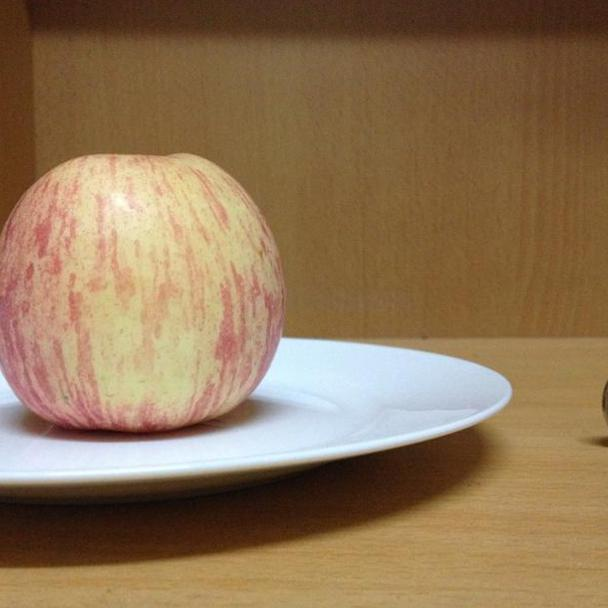apple: (1, 153, 287, 433)
